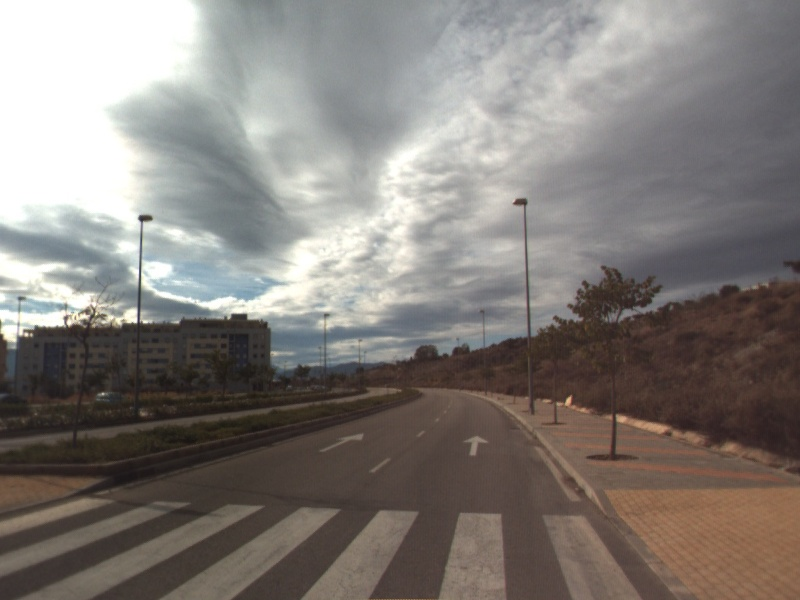STRAIGHT: (317, 431, 366, 454), (461, 433, 491, 458)
